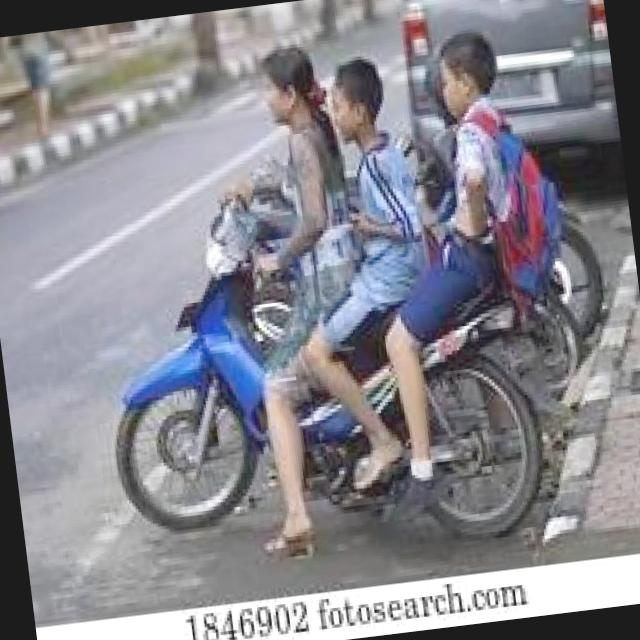motorcycle: (78, 163, 571, 581)
person: (392, 26, 562, 388), (228, 35, 368, 406), (311, 49, 440, 381)
rider_region: (66, 16, 580, 588)
